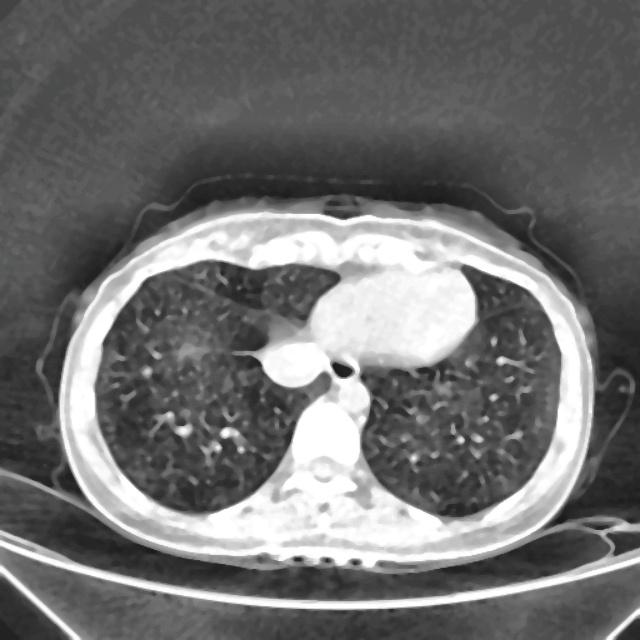covid: (54, 184, 599, 573)
